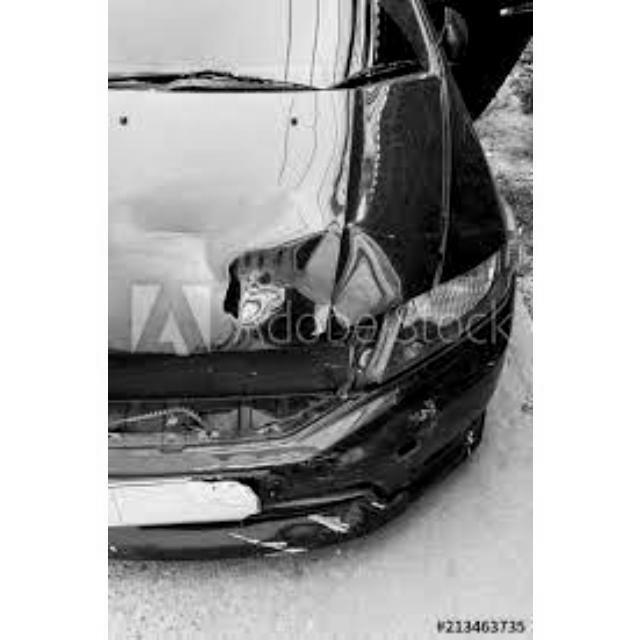bonnet-dent: (108, 58, 461, 358)
front-bumper-dent: (108, 377, 457, 549)
